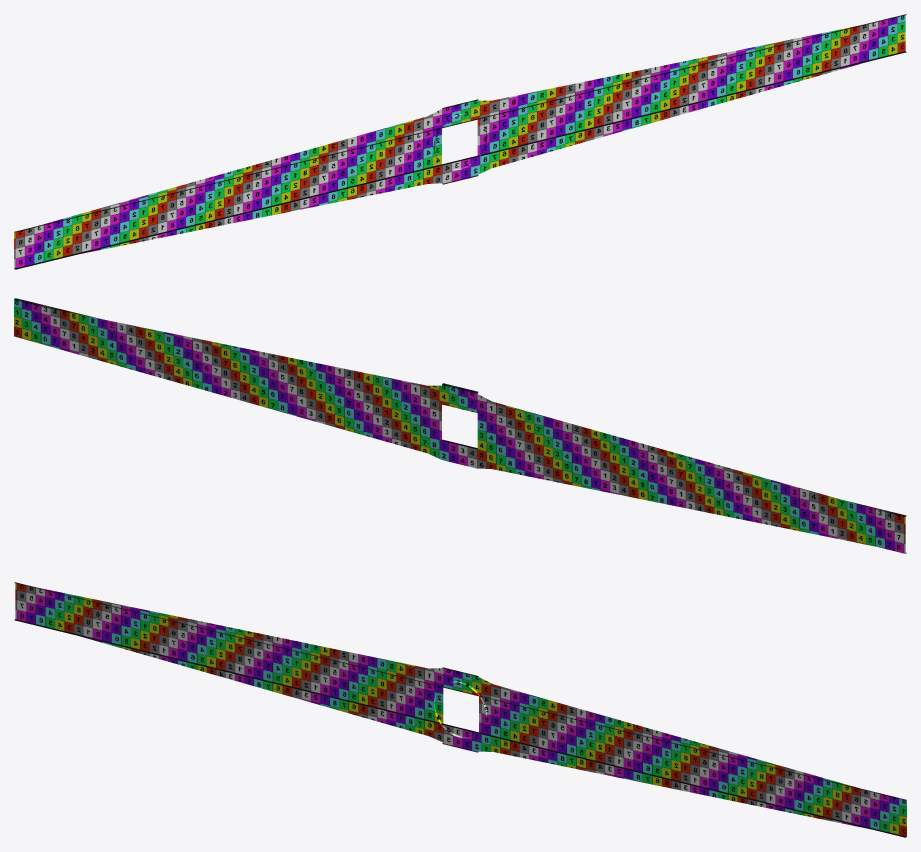
File: roundTest1.glb
3 renders of one model, top to bottom at view 1: azimuth 30°, elevation 25°; view 2: azimuth 150°, elevation 25°; view 3: azimuth 330°, elevation 25°, orthographic.
Visible parts, largest first — view 1: panelWindowRound290OutsideMaxWidth, panelWindowRound290Outside, panelWindowRound290OutsideMaxHeight; view 2: panelWindowRound290OutsideMaxWidth, panelWindowRound290Outside, panelWindowRound290OutsideMaxHeight; view 3: panelWindowRound290OutsideMaxWidth, panelWindowRound290Outside, panelWindowRound290OutsideMaxHeight.
Boxes of the visible parts, bbox=[...] form: panelWindowRound290OutsideMaxWidth: bbox=[14, 14, 906, 269]; panelWindowRound290Outside: bbox=[427, 100, 491, 183]; panelWindowRound290OutsideMaxHeight: bbox=[428, 99, 490, 184]; panelWindowRound290OutsideMaxWidth: bbox=[14, 298, 906, 553]; panelWindowRound290Outside: bbox=[427, 386, 491, 468]; panelWindowRound290OutsideMaxHeight: bbox=[428, 383, 491, 468]; panelWindowRound290OutsideMaxWidth: bbox=[14, 582, 906, 837]; panelWindowRound290Outside: bbox=[433, 680, 493, 751]; panelWindowRound290OutsideMaxHeight: bbox=[429, 667, 492, 752].
Bounding box in the file's own units: 7.5 × 0.61 × 0.0199.
Materials: 1 (1 with a texture image).
